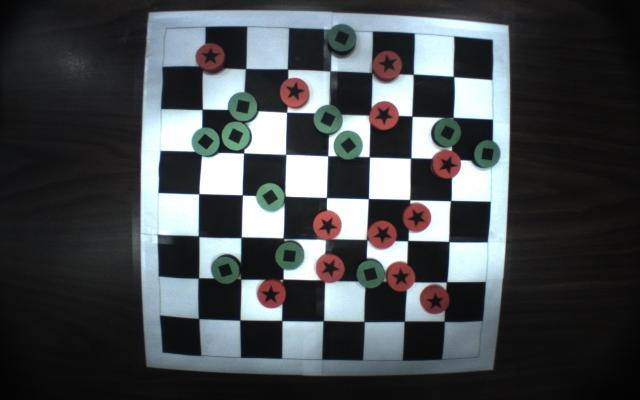G: (225, 89, 261, 124), (218, 119, 255, 151), (326, 22, 360, 56), (311, 103, 345, 137), (272, 239, 307, 272), (210, 252, 243, 286), (353, 257, 386, 291), (333, 128, 365, 162), (189, 126, 222, 158), (429, 116, 462, 148), (254, 182, 287, 214), (471, 138, 502, 171)
R: (192, 38, 230, 76), (276, 74, 311, 110), (369, 48, 405, 83), (430, 146, 464, 183), (367, 98, 402, 132), (399, 200, 434, 234), (418, 281, 452, 316), (314, 251, 347, 287), (310, 208, 344, 241), (366, 218, 400, 251), (254, 277, 289, 309), (384, 260, 416, 293)
